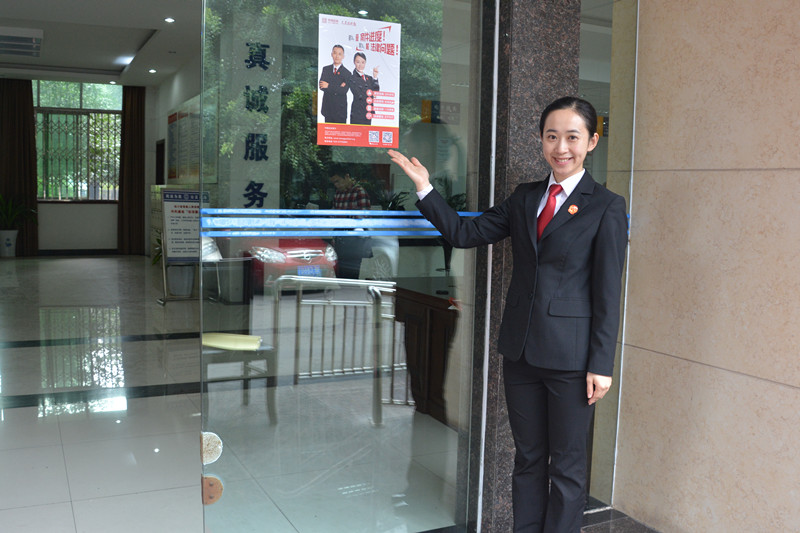bill: (318, 12, 401, 147), (161, 189, 219, 267)
